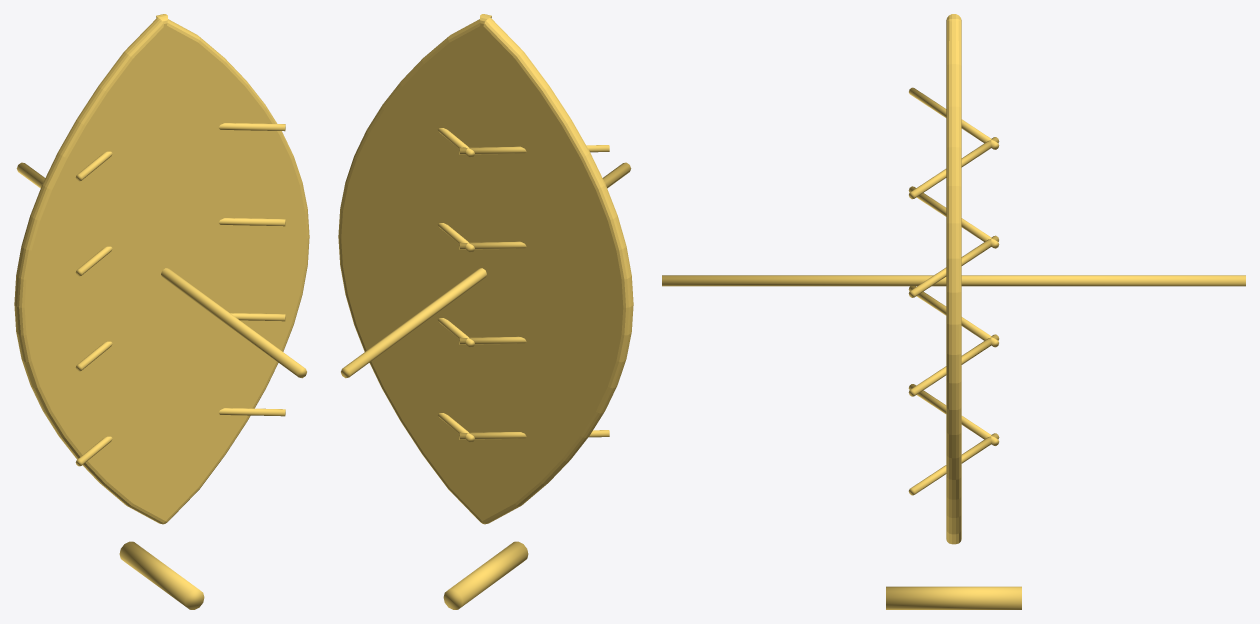
Rendered from golden-leaf.glb.
3 renders of one model, left to right at view 1: azimuth 30°, elevation 25°; view 2: azimuth 150°, elevation 25°; view 3: azimuth 270°, elevation 25°, orthographic. The views are drawn at different scales.
Parts seen in each view (by area): view 1: poly, Cylinder, Cylinder.009, Cylinder.005, Cylinder.007, Cylinder.008; view 2: poly, Cylinder, Cylinder.009, Cylinder.004, Cylinder.001, Cylinder.003, Cylinder.002; view 3: poly, Cylinder, Cylinder.009.
Part boxes in pixels (<box>): poly: <box>14,14,309,524</box>; Cylinder: <box>16,162,306,378</box>; Cylinder.009: <box>119,541,204,609</box>; Cylinder.005: <box>218,408,285,416</box>; Cylinder.007: <box>218,218,285,226</box>; Cylinder.008: <box>218,123,285,131</box>; poly: <box>338,14,633,524</box>; Cylinder: <box>341,162,631,378</box>; Cylinder.009: <box>443,541,528,609</box>; Cylinder.004: <box>459,145,609,154</box>; Cylinder.001: <box>459,430,609,439</box>; Cylinder.003: <box>459,241,526,249</box>; Cylinder.002: <box>459,336,526,344</box>; poly: <box>946,14,961,544</box>; Cylinder: <box>662,275,1245,286</box>; Cylinder.009: <box>886,586,1021,609</box>.
Size of the model in its own units: 0.7793 by 1.45 by 1.3.
